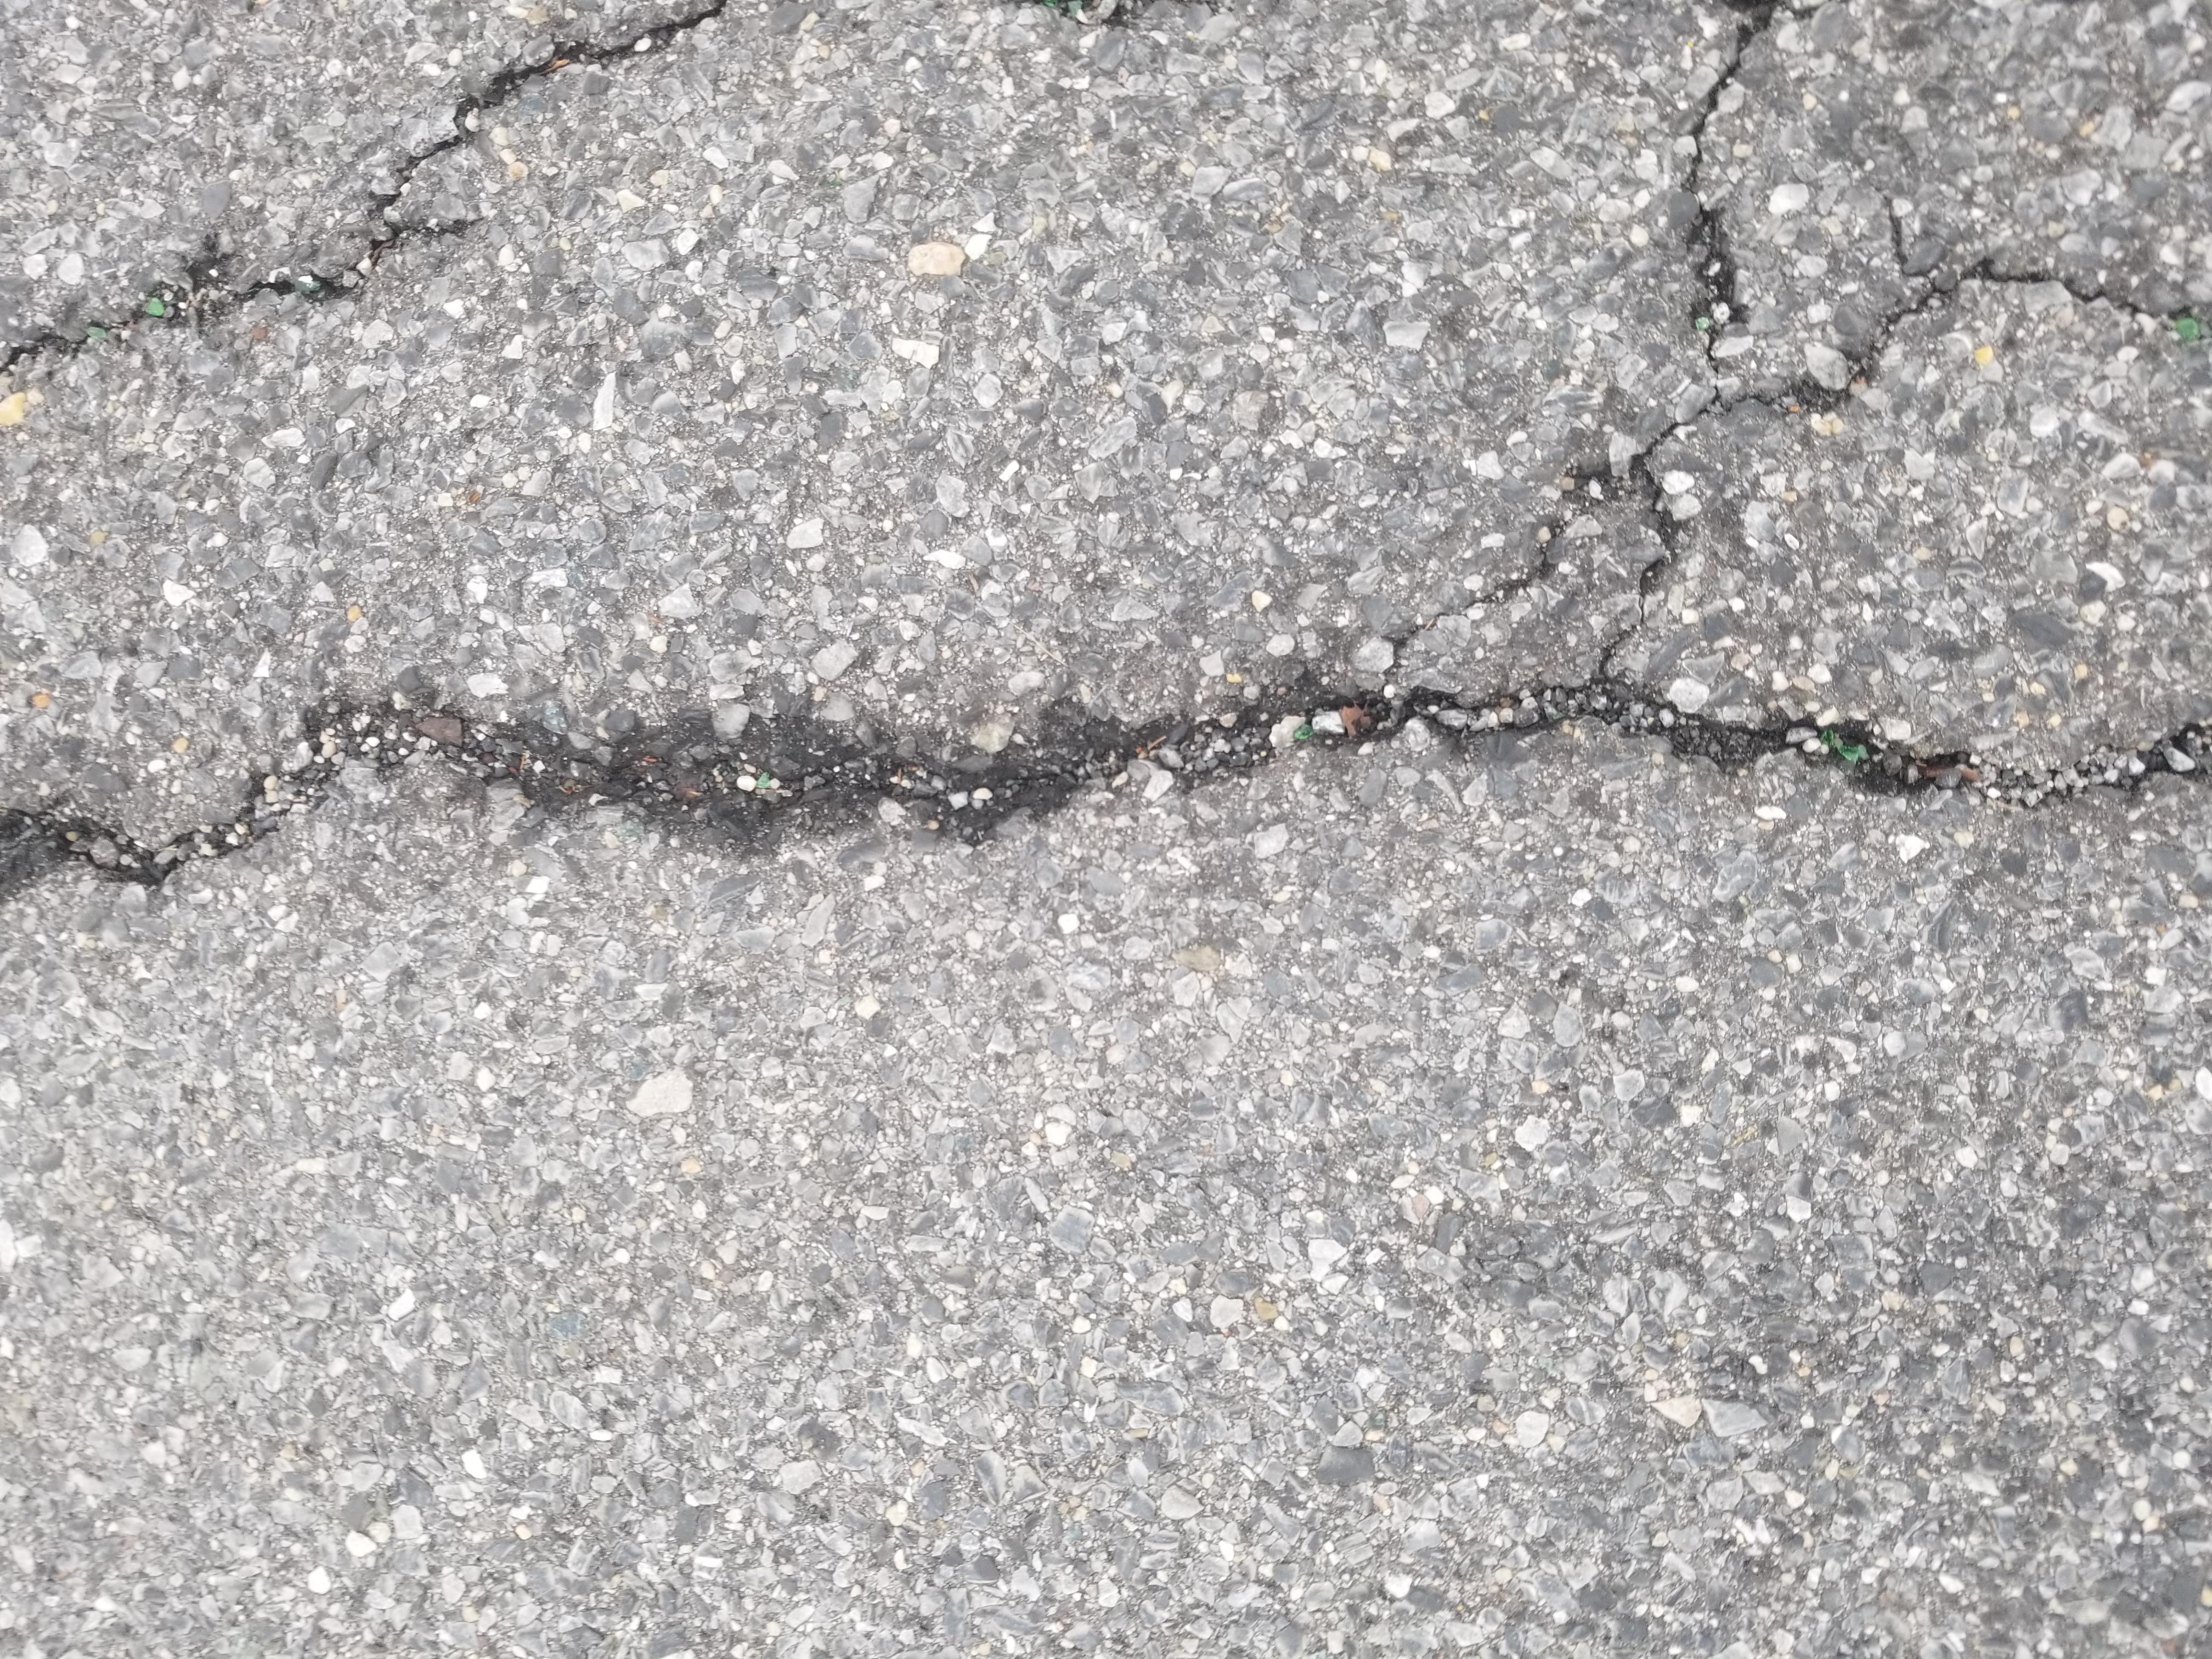alligator-crack: (1078, 1150, 2212, 1659)
crack: (923, 0, 1397, 1659)
